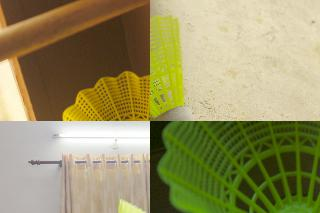shuttlecock: (157, 121, 319, 212), (150, 14, 196, 120), (54, 70, 149, 120), (111, 198, 149, 212)
